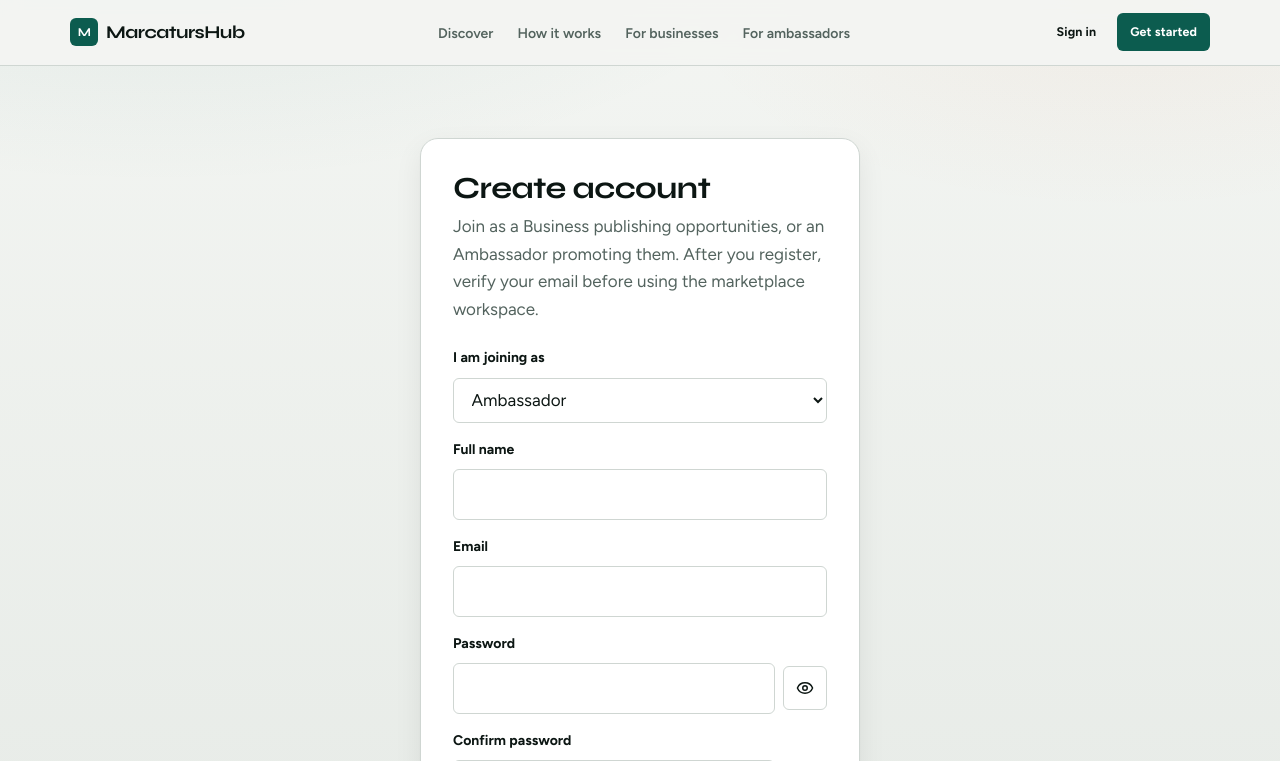
Test: MH-OPS-055 registration field-level API validation UX › Test B — maps multiple recognized field errors onto their inputs
Select "Ambassador" in the dropdown labelled "I am joining as" at coordinates (640, 400), box [453,378,827,423]
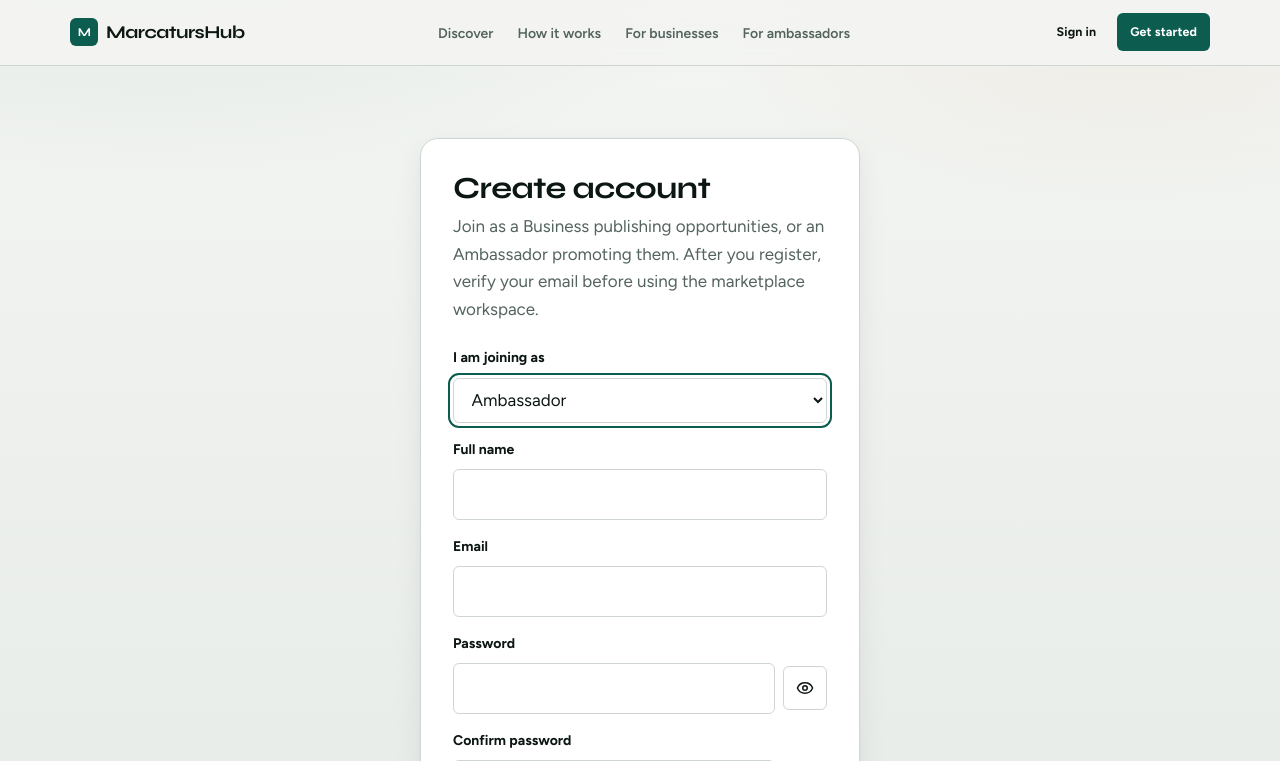
Type "New Participant" into the field labelled "Full name" at coordinates (640, 494), box [453,469,827,520]
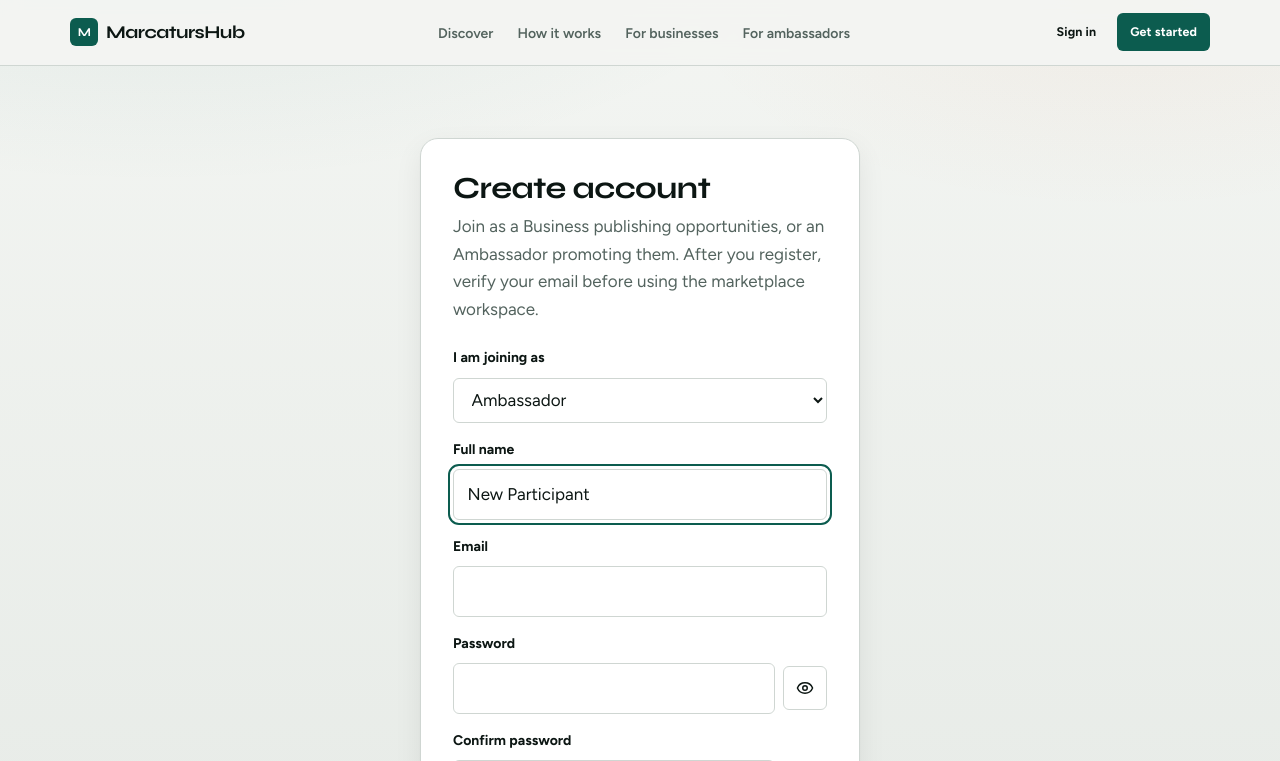
Type "new@example.com" into the field labelled "Email" at coordinates (640, 591), box [453,566,827,616]
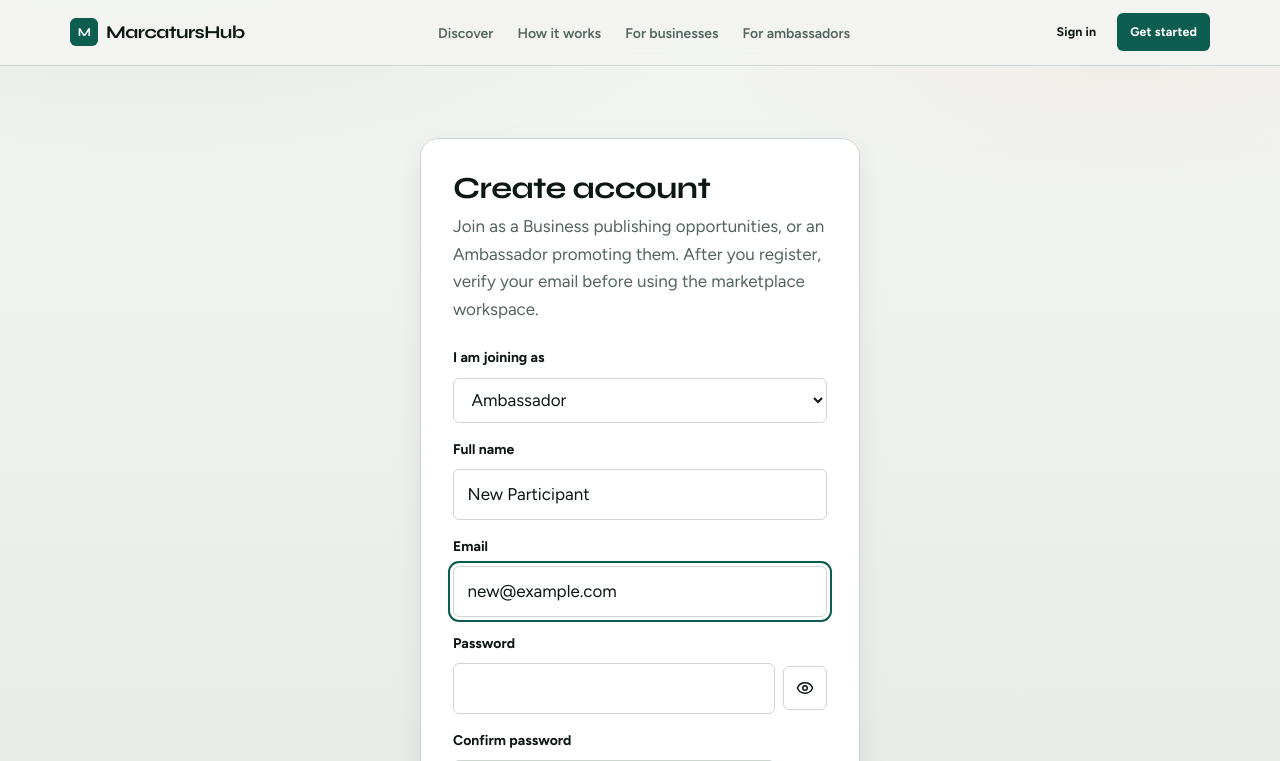
Type "DemoPass123!" into the password field labelled "Password" at coordinates (614, 688), box [453,663,775,714]
(page scrolled)
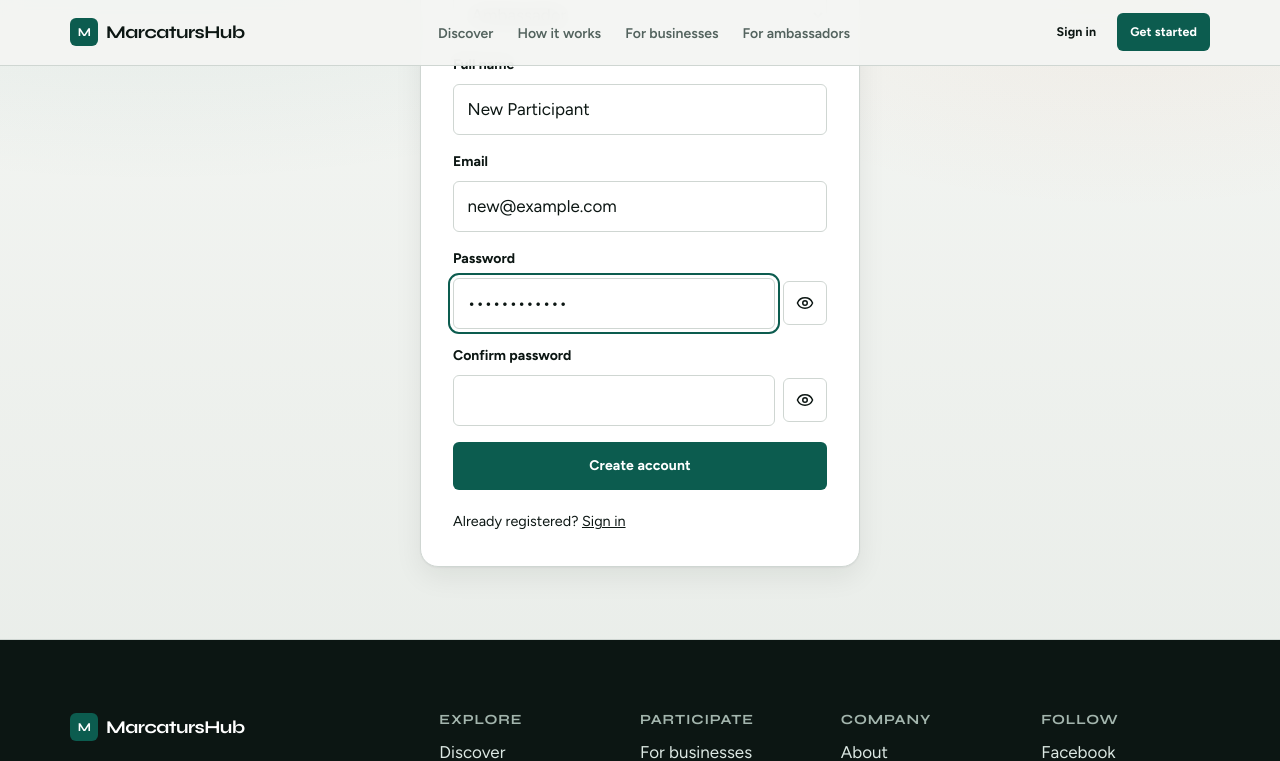
Type "DemoPass123!" into the password field labelled "Confirm password" at coordinates (614, 400), box [453,375,775,426]
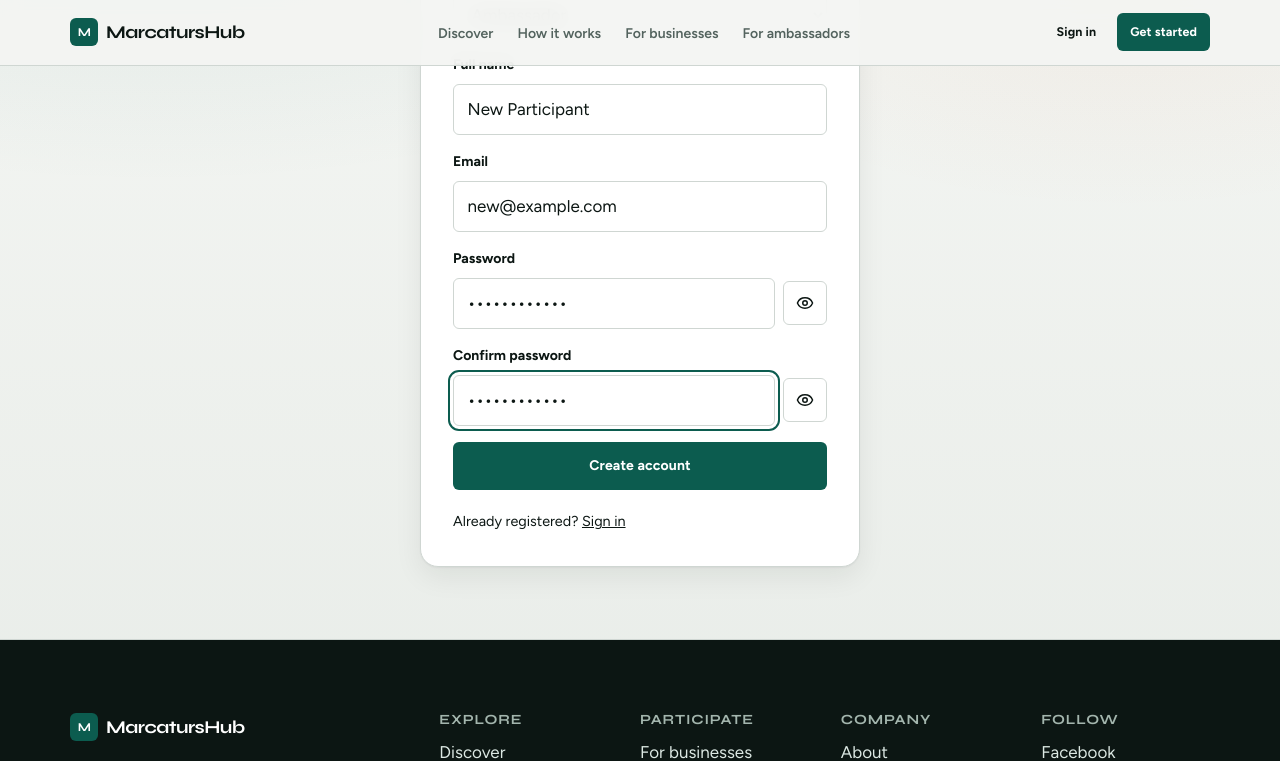
Click the button "Create account" at coordinates (640, 466), box [453,442,827,490]
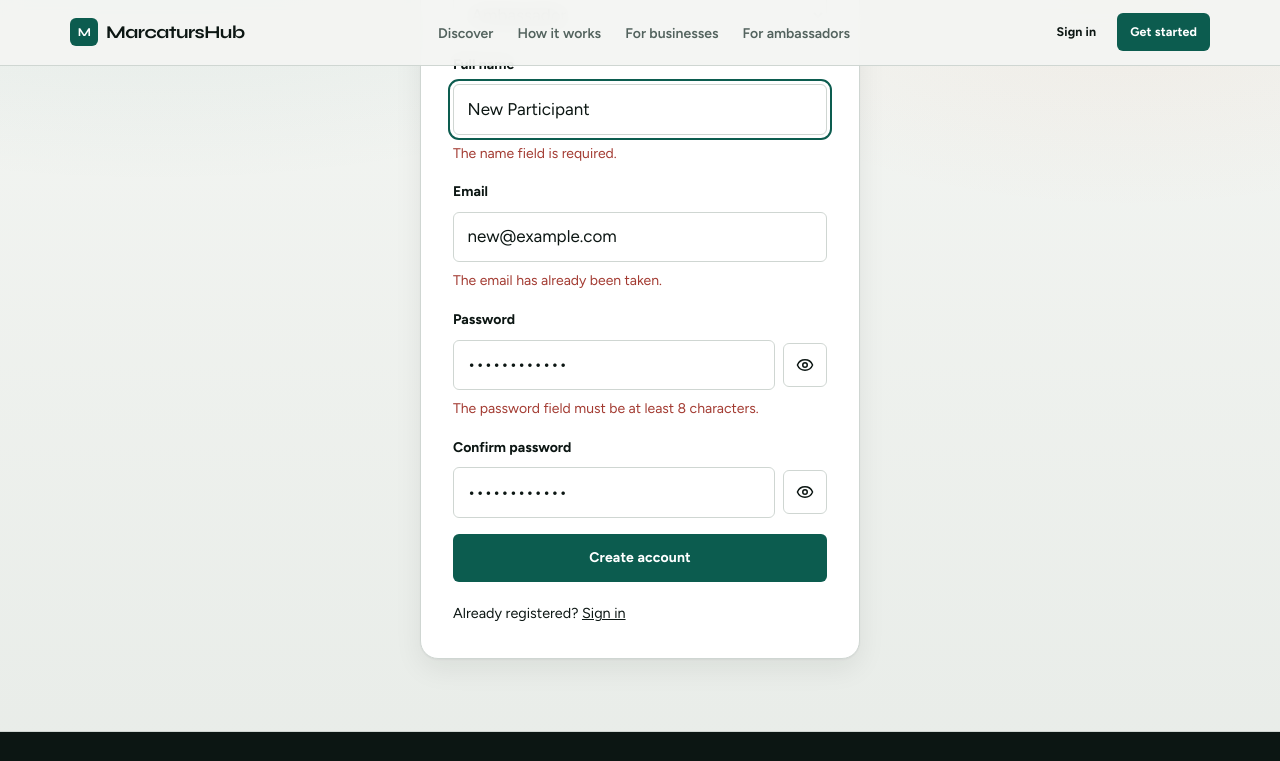
Result: the text "The name field is required." is shown at [453,144,617,162]
Result: the text "The email has already been taken." is shown at [453,272,662,289]
Result: the text "The password field must be at least 8 characters." is shown at [453,400,759,417]
